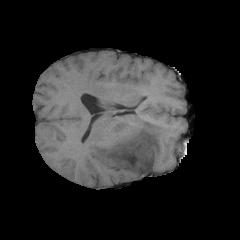glioma: (86, 115, 171, 176)
